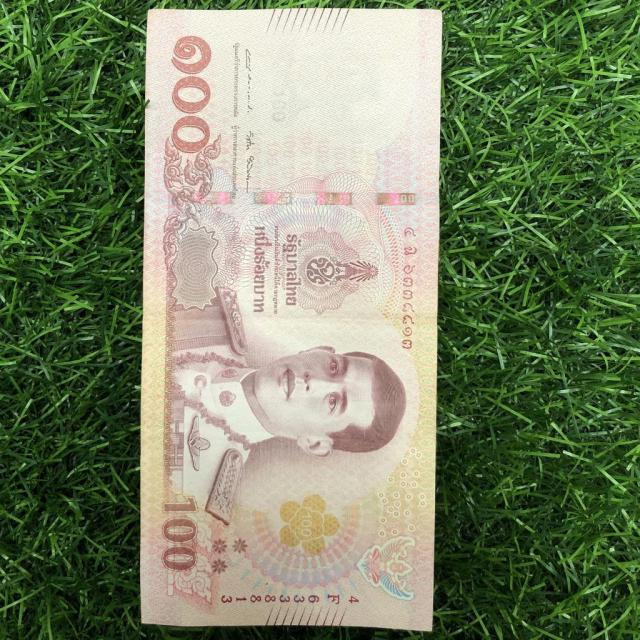THAI100: (138, 8, 444, 636)
